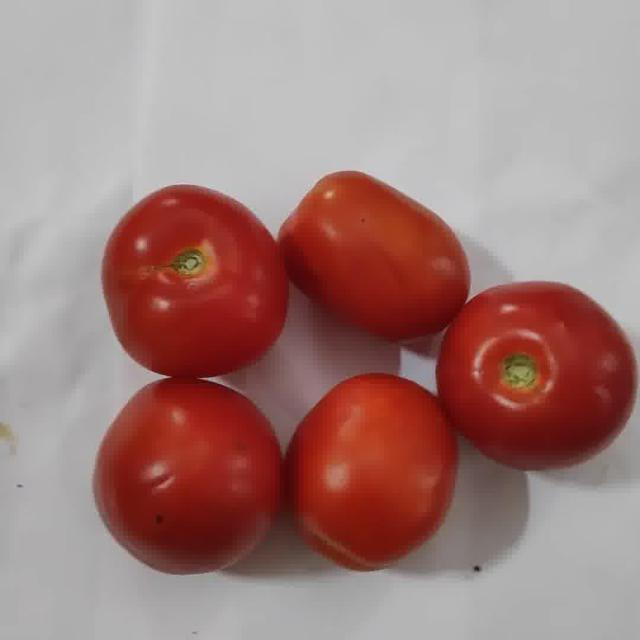Tomato: (437, 282, 636, 470), (95, 379, 280, 573), (102, 185, 288, 377), (279, 171, 470, 344), (287, 375, 455, 569)
